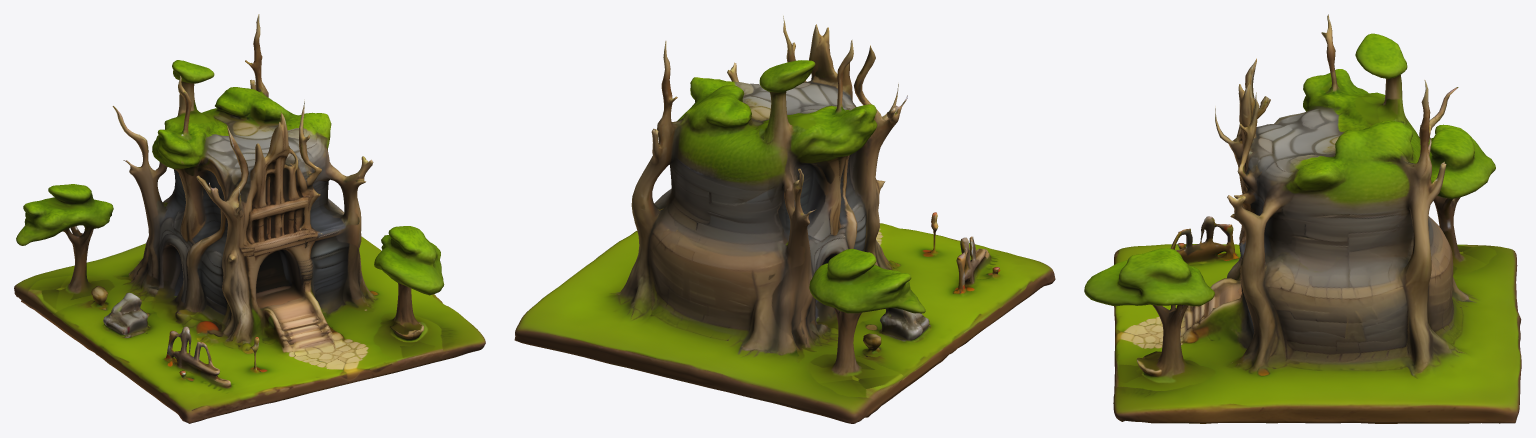
The model's file is bahay ni Lizardo.fbx.
3 renders of one model, left to right at view 1: azimuth 30°, elevation 25°; view 2: azimuth 150°, elevation 25°; view 3: azimuth 270°, elevation 25°, orthographic. The views are drawn at different scales.
Visible parts, largest first — view 1: model; view 2: model; view 3: model.
Boxes of the visible parts, x1,y1,x2,y2 form: model: [14, 14, 485, 423]; model: [514, 15, 1055, 423]; model: [1084, 14, 1521, 423].
Size of the model in its own units: 188 by 141 by 190.
1 material, 1 textured.
